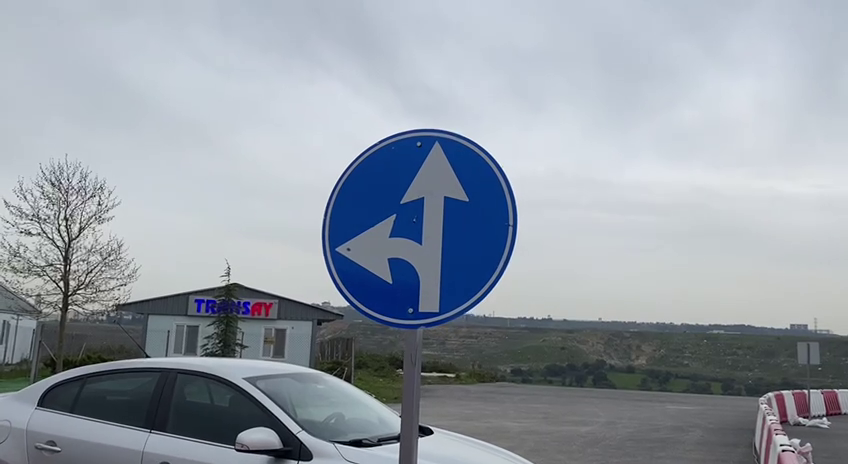forwardAndLeft: (320, 126, 522, 329)
